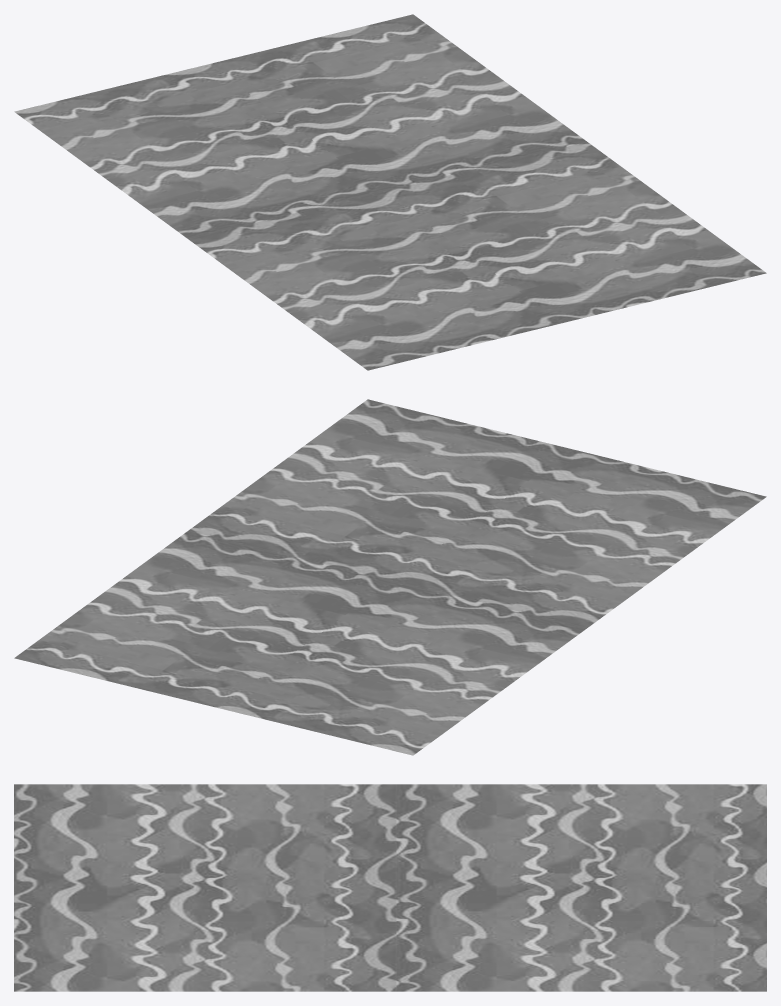
The model's file is Water_Plane.fbx.
3 renders of one model, top to bottom at view 1: azimuth 30°, elevation 25°; view 2: azimuth 150°, elevation 25°; view 3: azimuth 270°, elevation 25°, orthographic. The views are drawn at different scales.
Visible parts, largest first — view 1: pPlane1; view 2: pPlane1; view 3: pPlane1.
Boxes of the visible parts, x1,y1,x2,y2 form: pPlane1: [14, 14, 766, 370]; pPlane1: [14, 399, 766, 755]; pPlane1: [14, 784, 766, 991].
Size of the model in its own units: 14.52 by 0 by 22.28.
